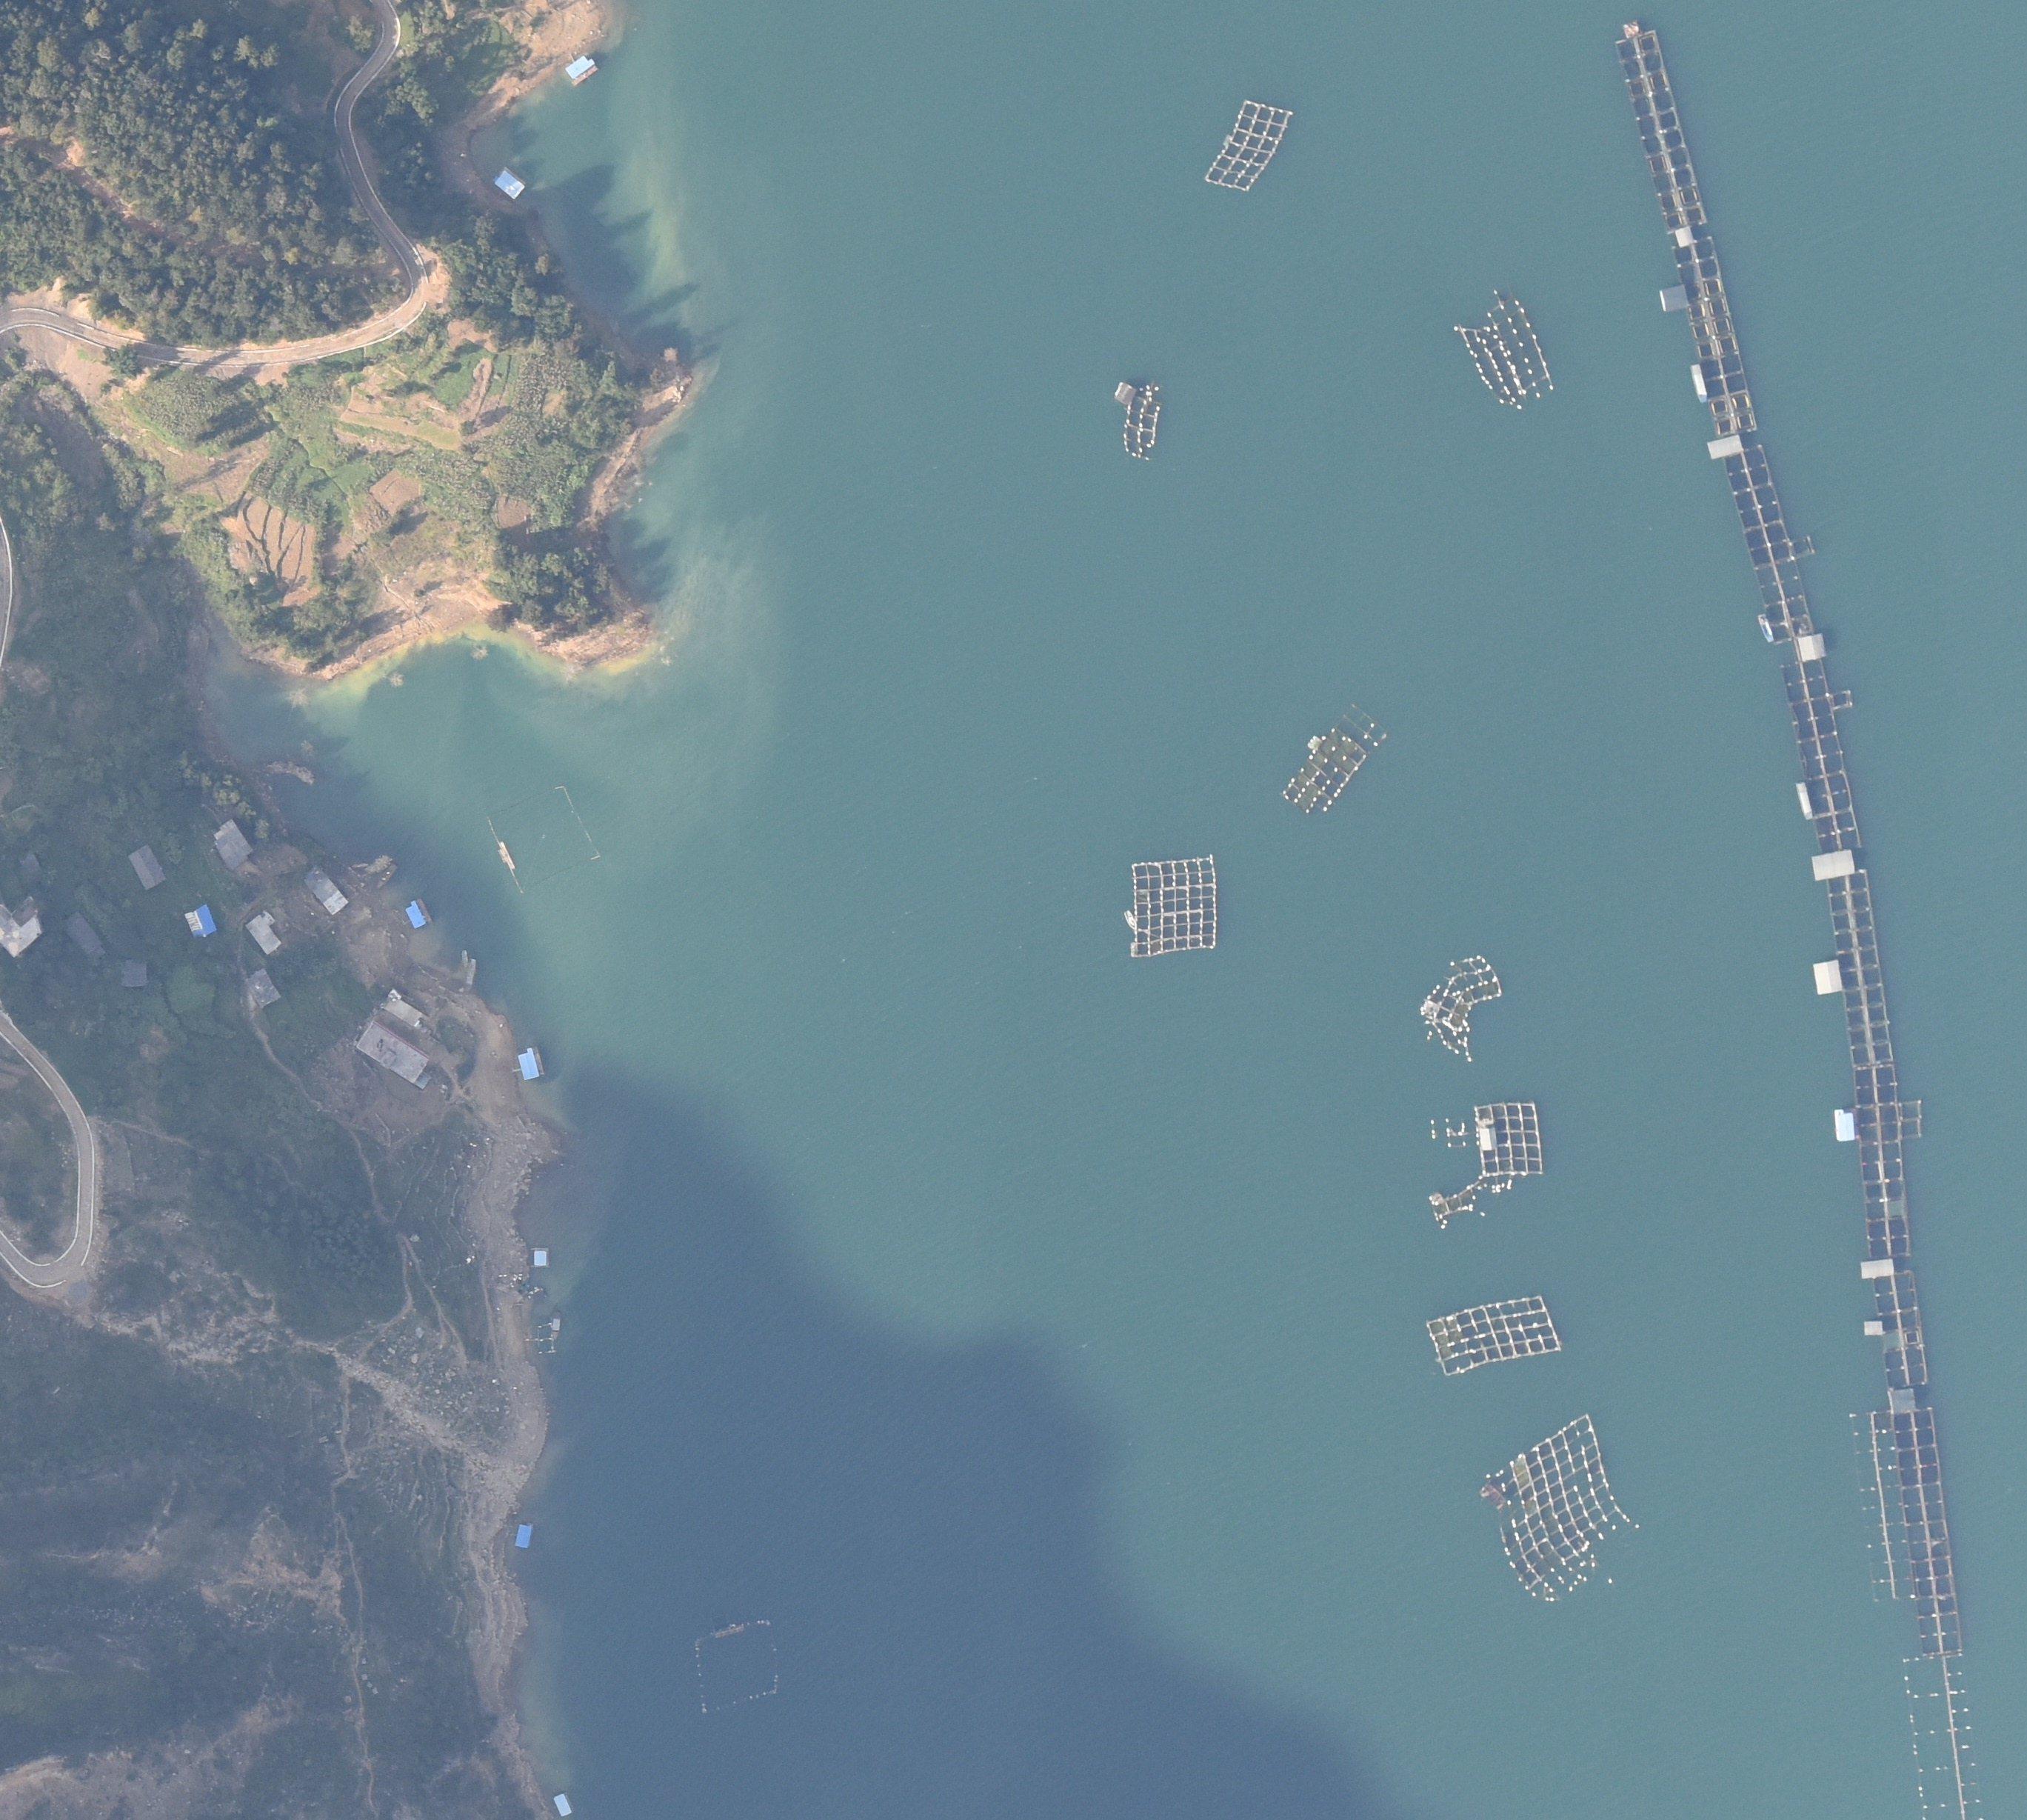building: (354, 1024, 431, 1087), (301, 866, 350, 914), (1, 901, 41, 956), (62, 912, 103, 964), (127, 845, 167, 890), (245, 914, 279, 954), (383, 994, 423, 1025), (120, 959, 147, 988)
cultivation-mesh-cage: (1851, 1412, 1980, 1820), (1824, 873, 1926, 1256), (1482, 1412, 1640, 1601), (1615, 31, 1712, 231), (1723, 446, 1814, 641), (1672, 237, 1754, 436), (1784, 661, 1863, 853), (1429, 1101, 1546, 1230), (1453, 286, 1560, 416), (487, 784, 601, 893), (1284, 701, 1388, 815), (1423, 1293, 1562, 1379), (1416, 956, 1504, 1062), (1129, 856, 1221, 958), (1206, 95, 1291, 193), (693, 1617, 782, 1711), (1872, 1273, 1925, 1390), (1121, 385, 1164, 464), (535, 1322, 554, 1354)
landslide: (336, 1324, 538, 1508)
prefabricated-house: (211, 819, 252, 870), (244, 966, 281, 1004), (1813, 850, 1855, 881), (185, 901, 217, 941), (564, 53, 598, 84), (1813, 961, 1843, 995), (515, 1044, 544, 1079), (492, 169, 526, 199), (1707, 435, 1744, 460), (1797, 631, 1828, 659), (405, 899, 433, 929), (1857, 1257, 1894, 1279), (1658, 286, 1691, 310), (1888, 1389, 1919, 1412), (1834, 1108, 1855, 1141), (513, 1521, 535, 1548), (1674, 224, 1694, 247), (1477, 1126, 1495, 1150), (554, 1792, 570, 1817), (1863, 1321, 1885, 1336), (533, 1247, 549, 1267), (1308, 735, 1324, 750)
ship: (1689, 364, 1711, 404), (460, 950, 478, 990), (1797, 780, 1814, 822), (1757, 612, 1776, 641), (551, 1310, 561, 1339)
